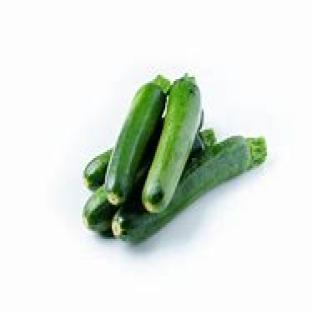Zucchini: (112, 136, 266, 243), (106, 75, 170, 204), (142, 75, 201, 212), (82, 187, 118, 235), (84, 150, 111, 190)
